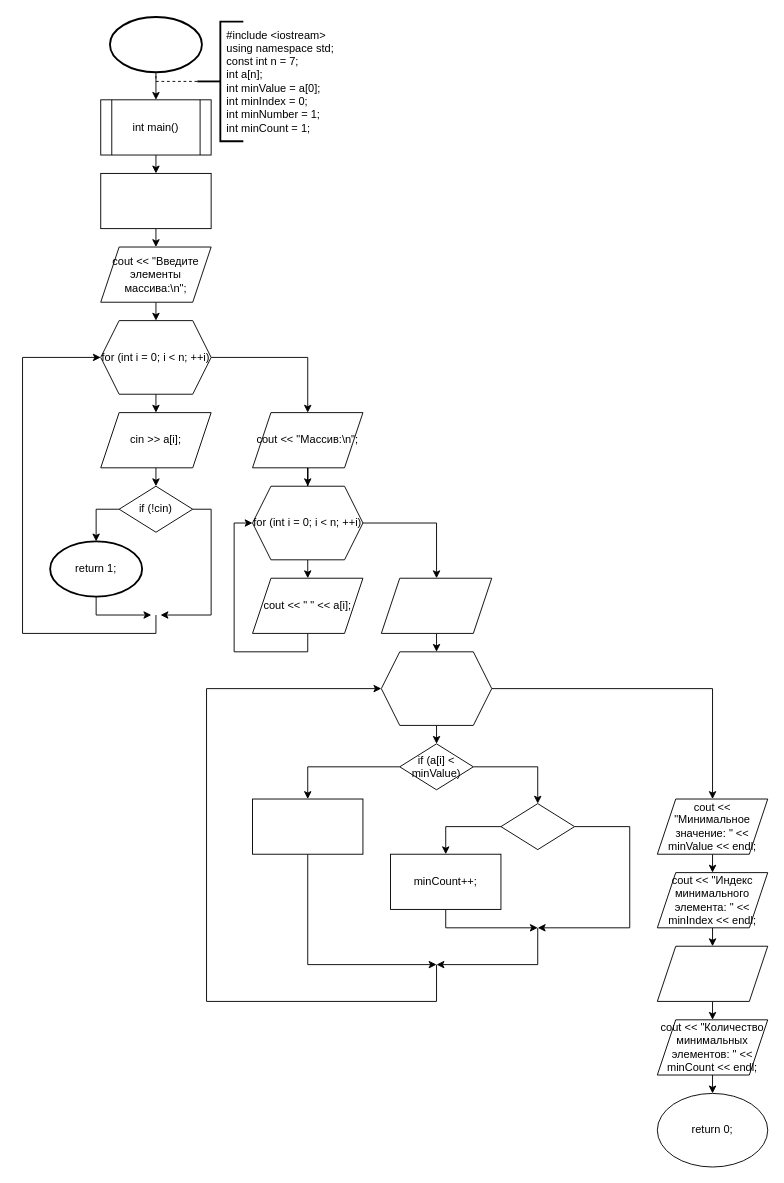
The diagram is 784 pixels wide and 1183 high, and some of its shapes have lost their labels. The centre of each missing label's shape, as x and y in pixels:
cout << "\n";: (x=436, y=605)
cout << "Номер минимального элемента: " << minNumber << endl;: (x=712, y=973)
for (int i = 1; i < n; ++i): (x=436, y=688)
if (a[i] == minValue): (x=537, y=826)
minValue = a[i]; minIndex = i; minNumber = i + 1; minCount = 1;: (x=307, y=826)
setlocale(LC_ALL, "ru");: (x=155, y=200)
Начало: (x=155, y=44)
